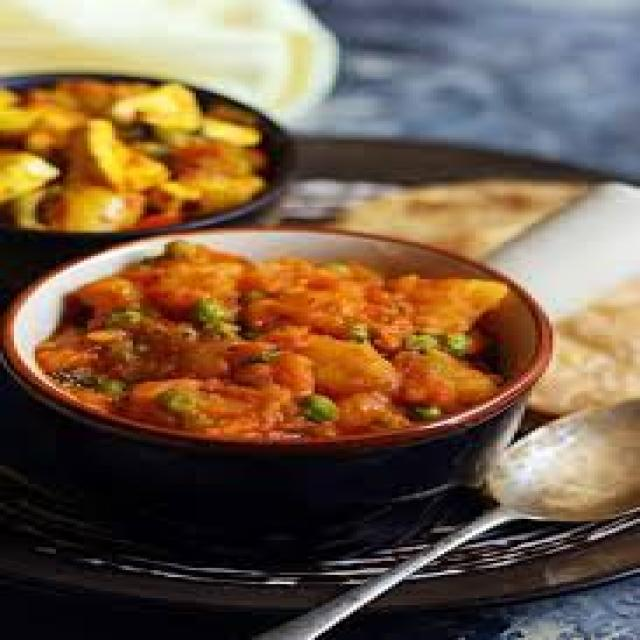Aloo Matar: (50, 240, 508, 438)
